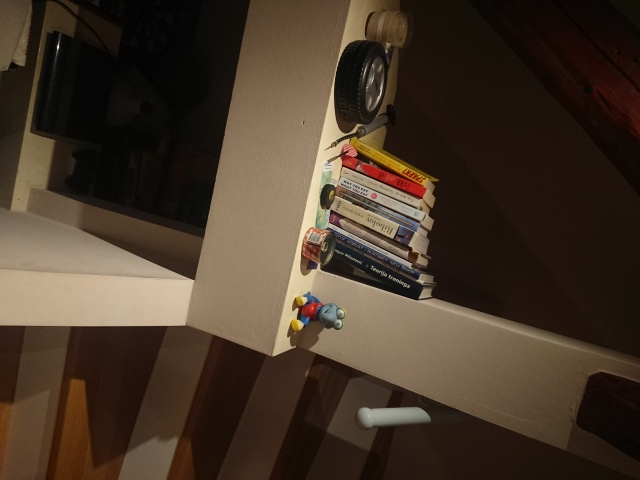Podravka Luncheon Meat 150g: (300, 226, 337, 267)
